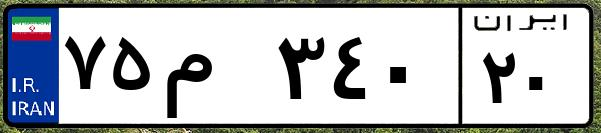0: (385, 28, 445, 110), (525, 38, 570, 115)
2: (475, 38, 525, 113)
3: (270, 28, 330, 110)
4: (330, 28, 385, 110)
5: (110, 28, 158, 98)
7: (57, 26, 110, 100)
م: (158, 20, 270, 120)
